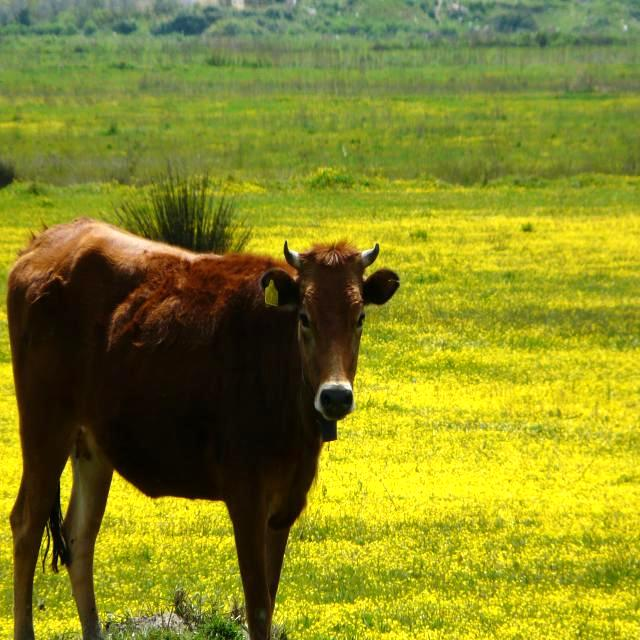COW: (8, 218, 399, 638)
